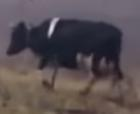cow: (7, 18, 124, 95)
